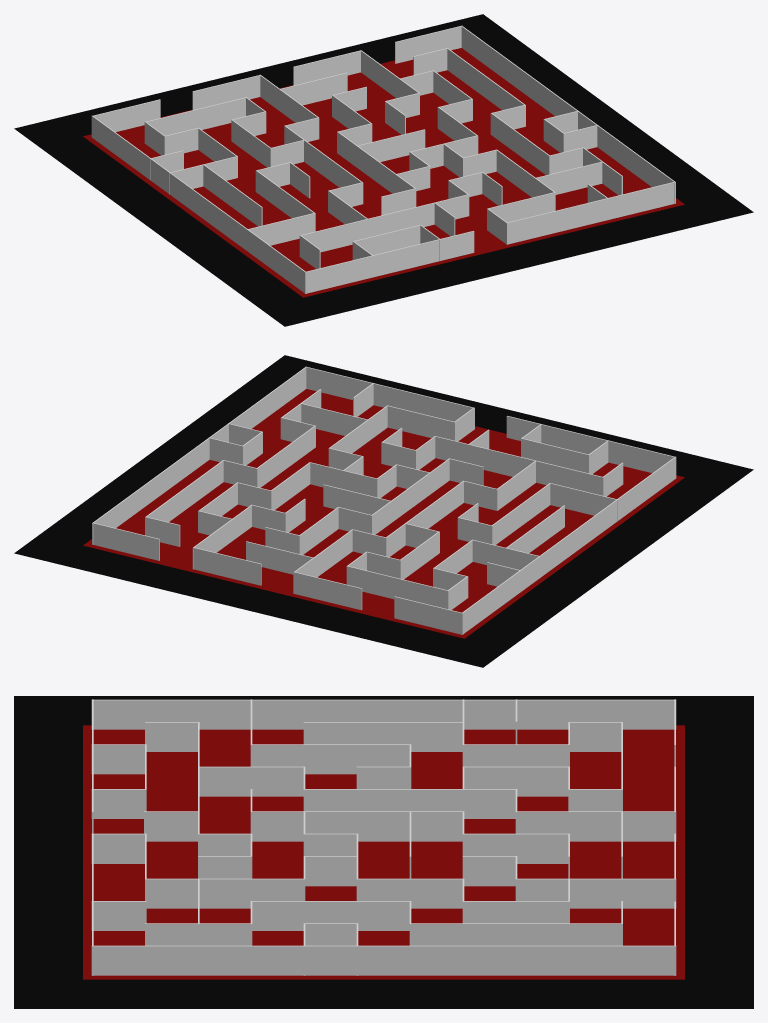
Rendered from laberinto.glb.
3 renders of one model, top to bottom at view 1: azimuth 30°, elevation 25°; view 2: azimuth 150°, elevation 25°; view 3: azimuth 270°, elevation 25°, orthographic. The views are drawn at different scales.
Parts seen in each view (by area): view 1: Plane.049, Plane.024, Plane.023, Plane.001, Plane.071, Plane.012, Plane.004, Plane.018, Plane.030, Plane.027, Plane.034, Plane.025 (+39 smaller); view 2: Plane.049, Plane.024, Plane.023, Plane.012, Plane.071, Plane.001, Plane.004, Plane.018, Plane.003, Plane.056, Plane.025, Plane.030 (+40 smaller); view 3: Plane.049, Plane.023, Plane.024, Plane.018, Plane.056, Plane.030, Plane.063, Plane.017, Plane.062, Plane.034, Plane.052, Plane.039 (+22 smaller).
Part boxes in pixels (<box>): Plane.049: <box>14,14,753,326</box>; Plane.024: <box>92,115,306,293</box>; Plane.023: <box>461,25,675,203</box>; Plane.001: <box>304,231,474,293</box>; Plane.071: <box>507,182,674,244</box>; Plane.012: <box>299,194,469,256</box>; Plane.004: <box>145,97,245,135</box>; Plane.018: <box>337,131,416,206</box>; Plane.030: <box>447,48,525,126</box>; Plane.027: <box>395,26,461,63</box>; Plane.034: <box>490,113,550,175</box>; Plane.025: <box>192,75,260,110</box>; Plane.049: <box>14,355,753,667</box>; Plane.024: <box>461,456,675,634</box>; Plane.023: <box>92,367,306,544</box>; Plane.012: <box>435,436,603,495</box>; Plane.071: <box>305,366,473,421</box>; Plane.001: <box>506,416,676,478</box>; Plane.004: <box>346,566,448,609</box>; Plane.018: <box>372,458,449,534</box>; Plane.003: <box>394,596,463,634</box>; Plane.056: <box>385,481,463,556</box>; Plane.025: <box>294,572,362,610</box>; Plane.030: <box>146,460,223,522</box>; Plane.049: <box>14,696,753,1008</box>; Plane.023: <box>91,945,676,975</box>; Plane.024: <box>91,699,676,729</box>; Plane.018: <box>252,811,464,841</box>; Plane.056: <box>305,789,517,818</box>; Plane.030: <box>410,923,622,945</box>; Plane.063: <box>516,878,676,908</box>; Plane.017: <box>517,811,676,841</box>; Plane.062: <box>146,878,305,908</box>; Plane.034: <box>252,901,411,930</box>; Plane.052: <box>252,744,409,774</box>; Plane.039: <box>303,722,462,751</box>.
Bounding box in the file's own units: 45.57 × 2 × 45.57.
